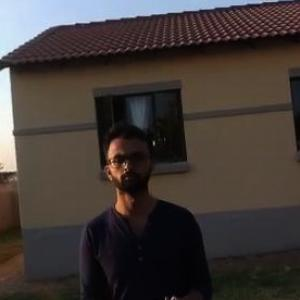follow: (77, 118, 222, 299)
